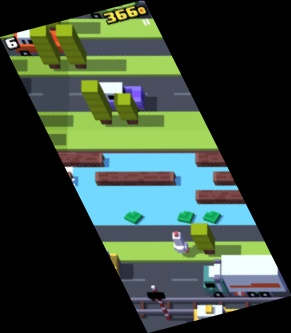car: (94, 81, 145, 113), (72, 249, 121, 281), (14, 28, 68, 55), (193, 304, 243, 328), (92, 1, 138, 22)
duck: (172, 231, 189, 254)
light off: (146, 284, 172, 321)
lilypad: (203, 208, 221, 224), (124, 210, 142, 224), (178, 210, 195, 224)
log: (94, 170, 174, 185), (195, 188, 249, 203), (56, 152, 105, 166), (195, 152, 227, 166), (213, 171, 239, 186), (42, 172, 73, 183)
rail: (127, 295, 291, 318)
tree: (82, 79, 112, 125), (56, 24, 87, 68), (30, 26, 61, 70), (115, 93, 138, 126), (191, 224, 216, 254), (42, 1, 60, 30)
truck: (203, 254, 290, 299)
water: (55, 151, 258, 225)
